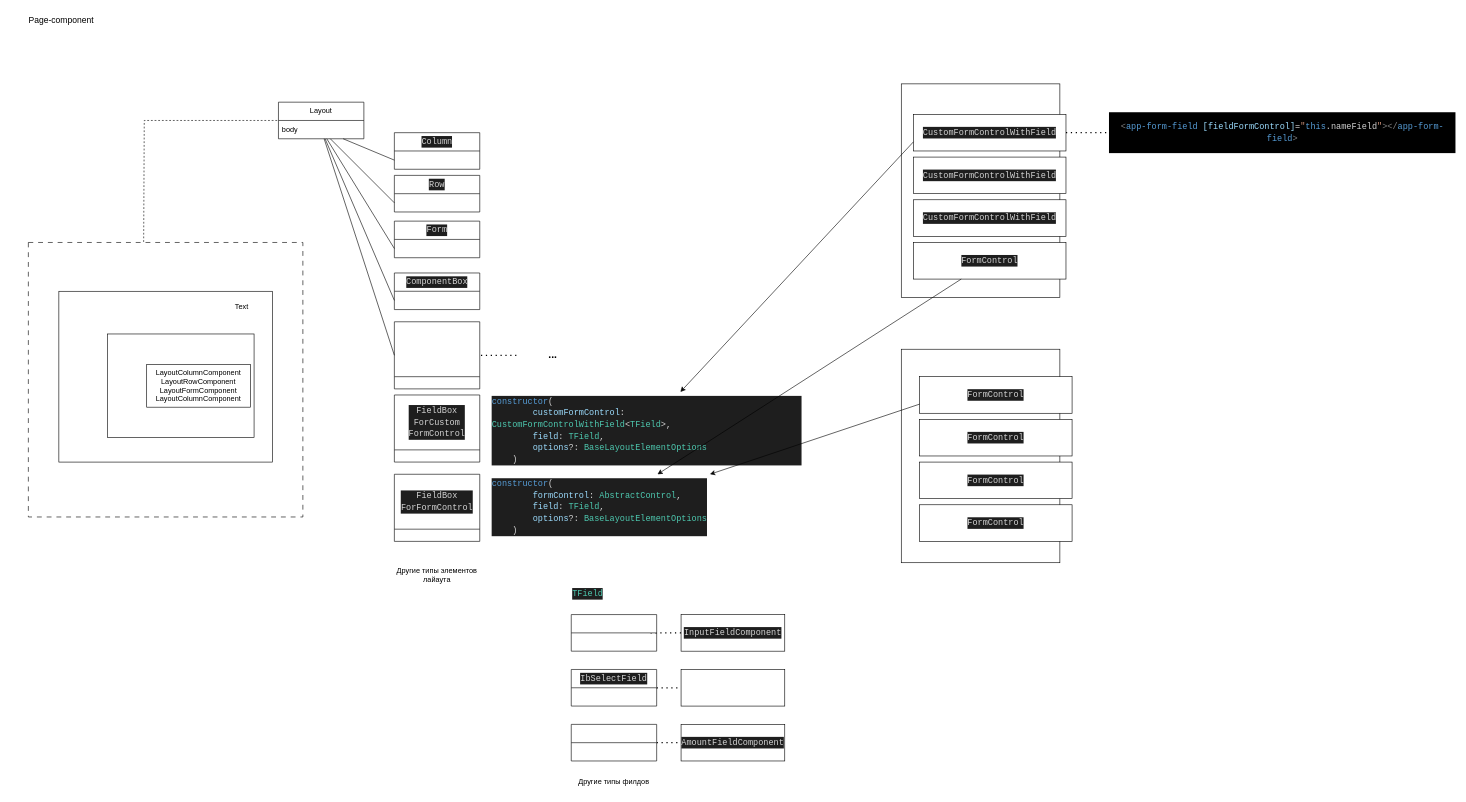
The diagram is 1466 pixels wide and 802 high, and some of its shapes have lost their labels. The shapes that lost their labels are listed below. From the top down, each one's box as (x1, y1, x2, y2) in pixels, then its label:
(901, 83, 1060, 297): CustomFormGroup
(394, 321, 480, 389): FieldBox (FieldBox ForCustom FormControl)
(58, 291, 272, 462): LayoutRendererComponent
(28, 242, 303, 517): Page-template
(107, 333, 254, 438): LayoutItemRendererComponent
(901, 349, 1060, 563): FormGroup
(571, 614, 657, 651): IbInputField
(680, 669, 785, 706): SelectFieldComponent
(571, 724, 657, 761): IbAmountField
